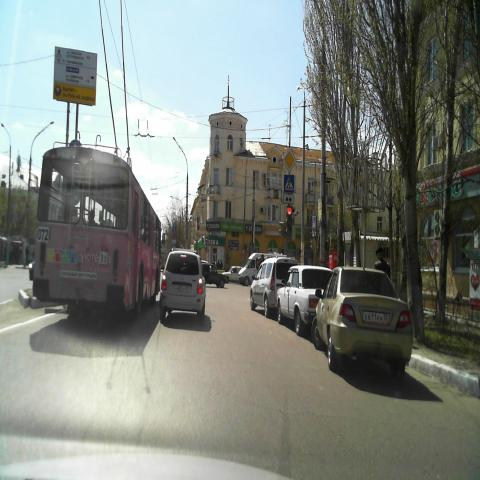8_15: (283, 194, 294, 204)
